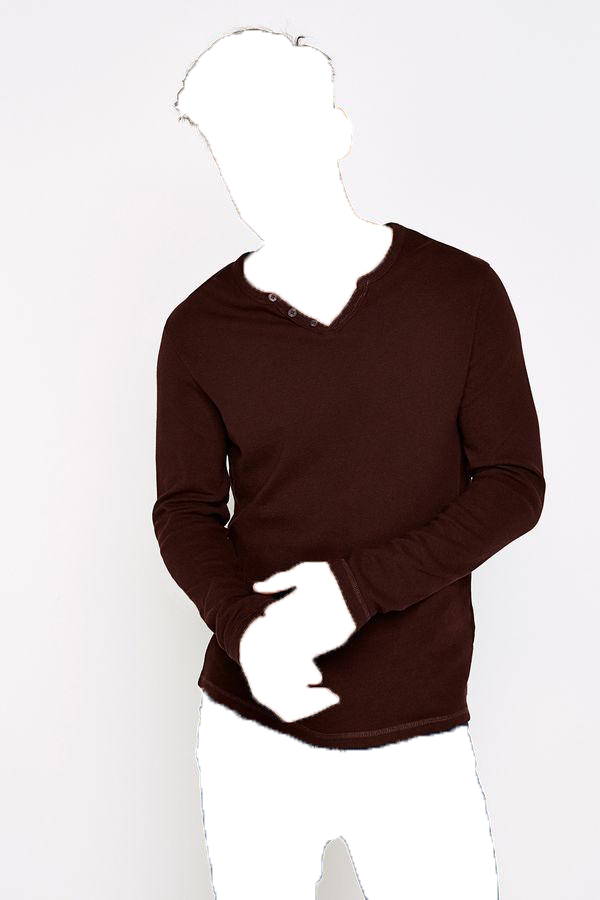teeshirt: (145, 226, 549, 751)
